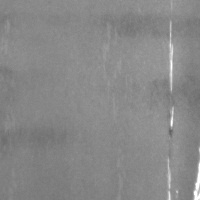scratches: (164, 14, 180, 139), (163, 153, 177, 199)
